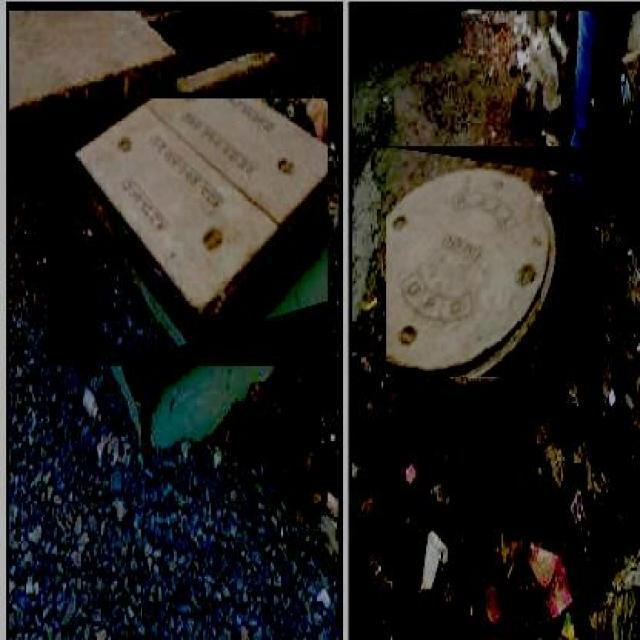Manhole: (46, 98, 328, 366), (387, 146, 596, 377)
